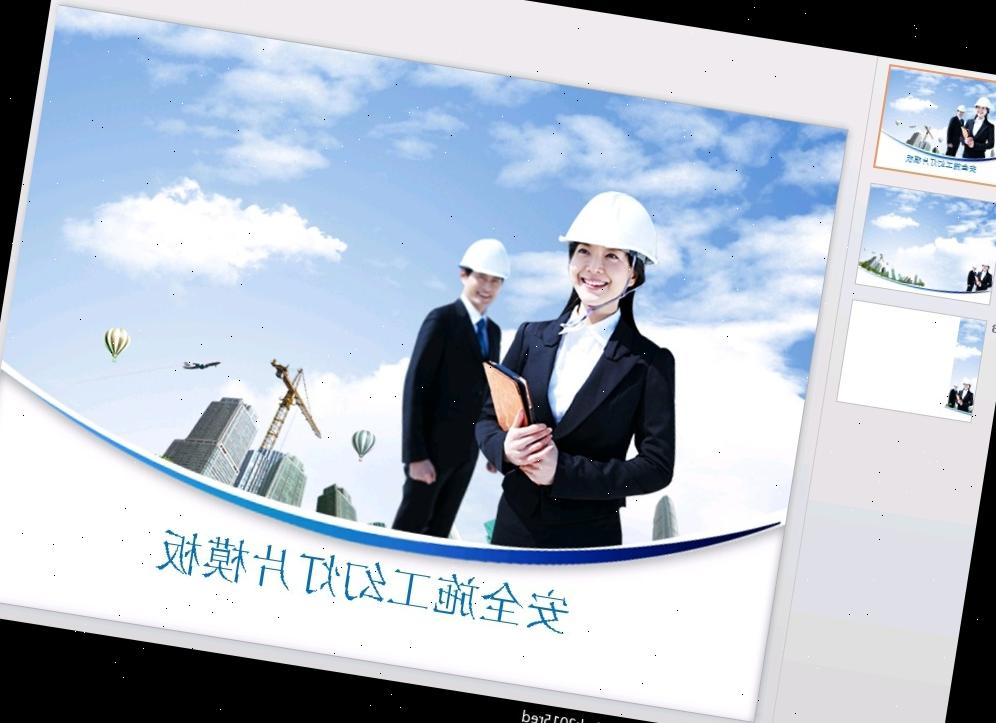helmet: (558, 184, 686, 272), (452, 233, 516, 284)
no_wear: (494, 317, 668, 527), (402, 307, 508, 478)
